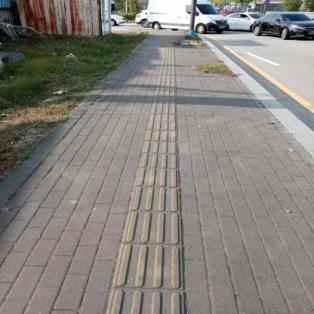Podoctatil: (98, 113, 193, 314), (148, 39, 180, 120)
